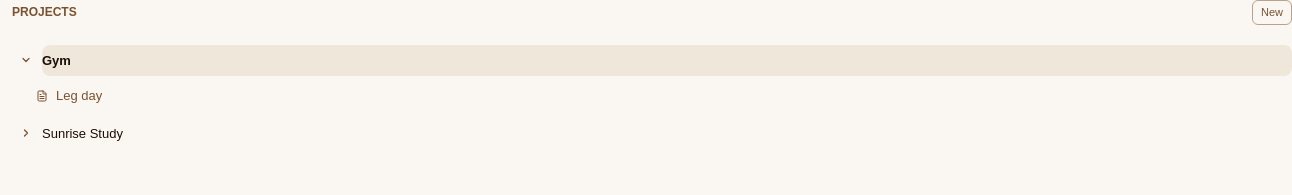
Test: ProjectExplorer › lets the chevron expand and collapse a project without navigating
Step 1. Click the button named "Expand Sunrise Study" → point(26, 133), box [12,119,40,147]
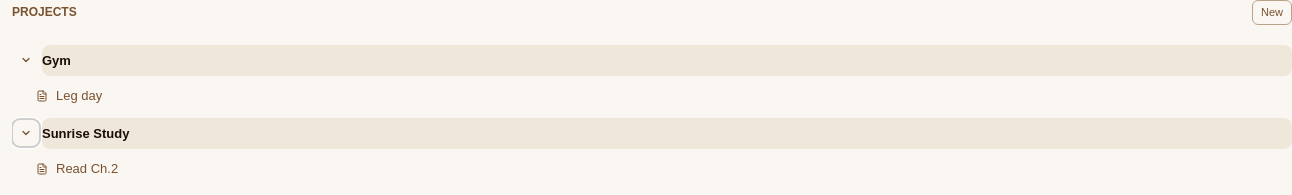
Check: the text "Read Ch.2" is shown, box [56,159,118,178]
Step 2. Click the button named "Collapse Gym" → point(26, 60), box [12,46,40,74]
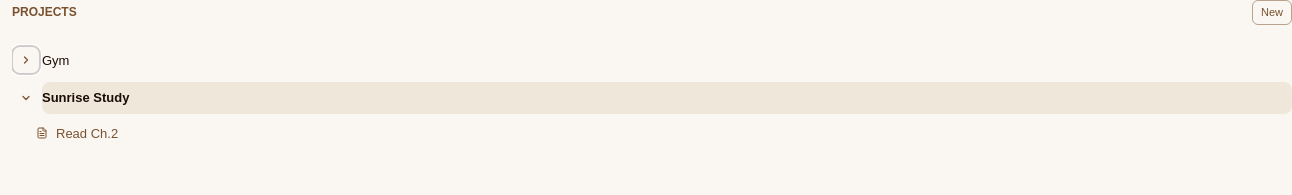
Check: the link "Leg day" is gone
